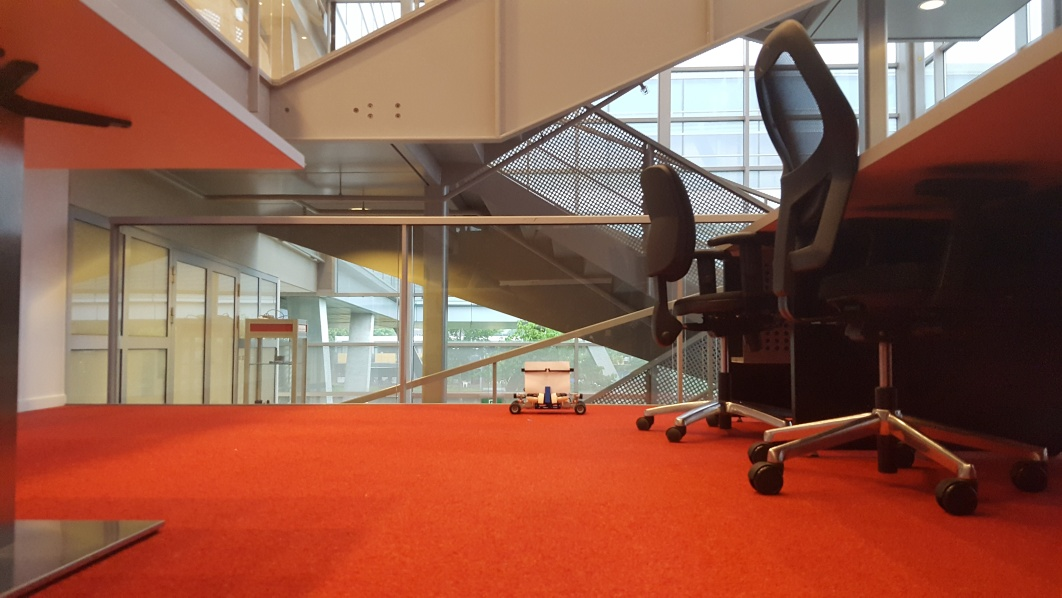car: (509, 359, 587, 415)
